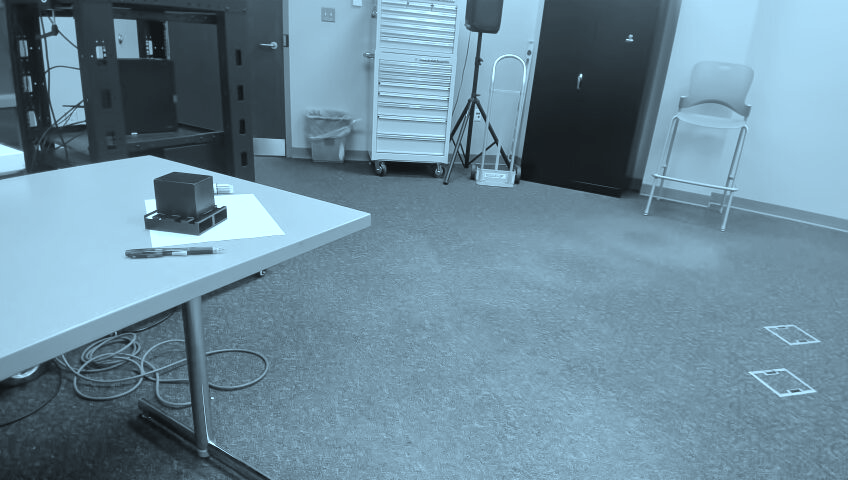black pallet: (141, 170, 231, 236)
